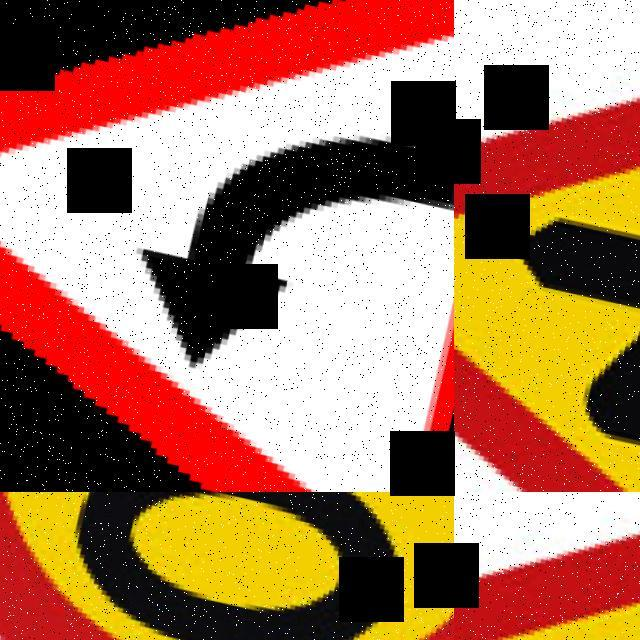139: (454, 0, 640, 492)
Right curve: (0, 0, 454, 492)
Uneven road: (454, 492, 640, 640)
speed limit-90: (0, 492, 454, 640)
